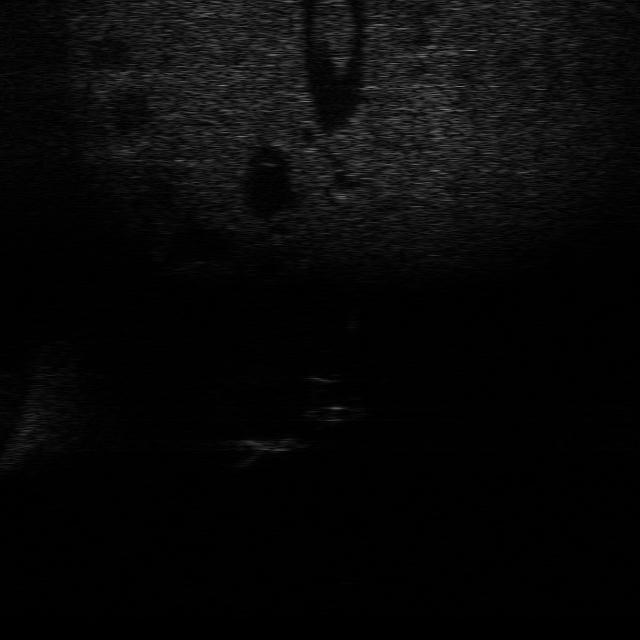ball: (294, 367, 350, 391)
square cage: (228, 432, 308, 470)
tyre: (300, 401, 369, 426)
